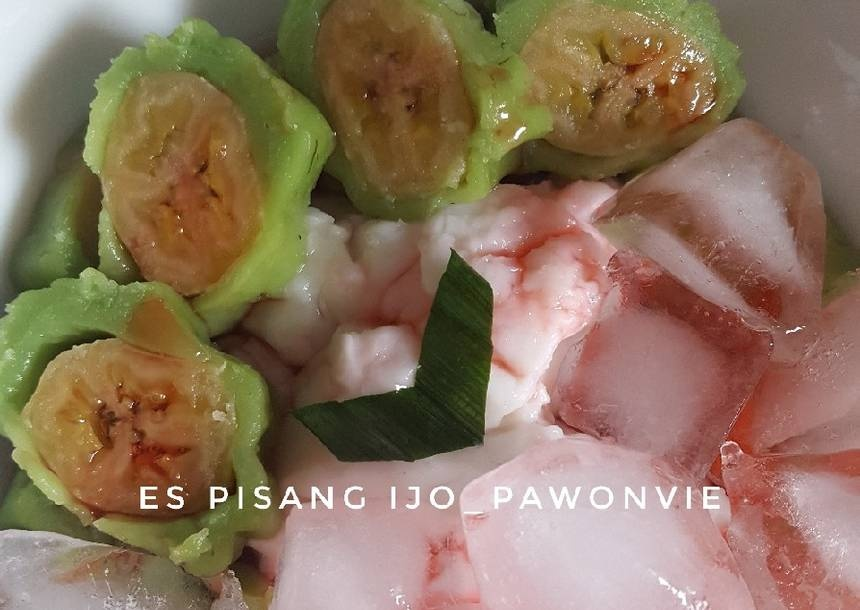pisang_ijo: (90, 38, 334, 319)
